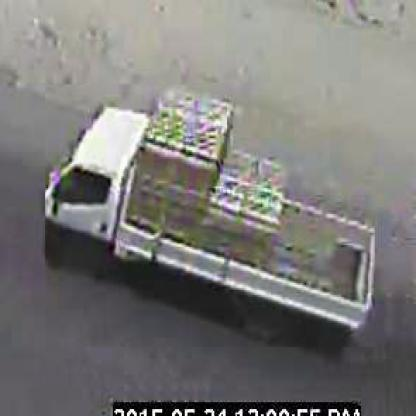truck: (46, 86, 378, 350)
